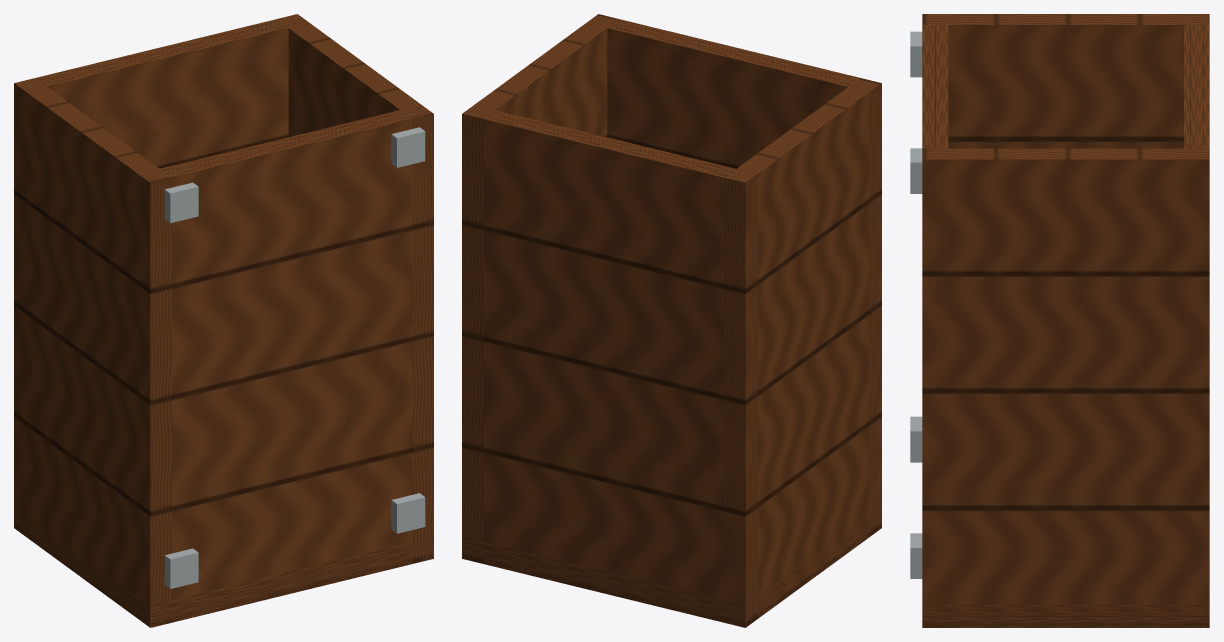
Rendered from roadside-survival-stops-roadside-litter-bin-10662781__23564.glb.
The picture shows the model from 3 angles, left to right: view 1: azimuth 30°, elevation 25°; view 2: azimuth 150°, elevation 25°; view 3: azimuth 270°, elevation 25°; orthographic projection. The views are drawn at different scales.
Parts seen in each view (by area): view 1: roadside-litter-bin; view 2: roadside-litter-bin; view 3: roadside-litter-bin.
Part boxes in pixels (left/top/right/bottom): roadside-litter-bin: left=14, top=14, right=433, bottom=627; roadside-litter-bin: left=462, top=14, right=881, bottom=627; roadside-litter-bin: left=910, top=14, right=1209, bottom=627.
Size of the model in its own units: 0.6 by 0.9 by 0.521.
2 materials, 1 textured.
